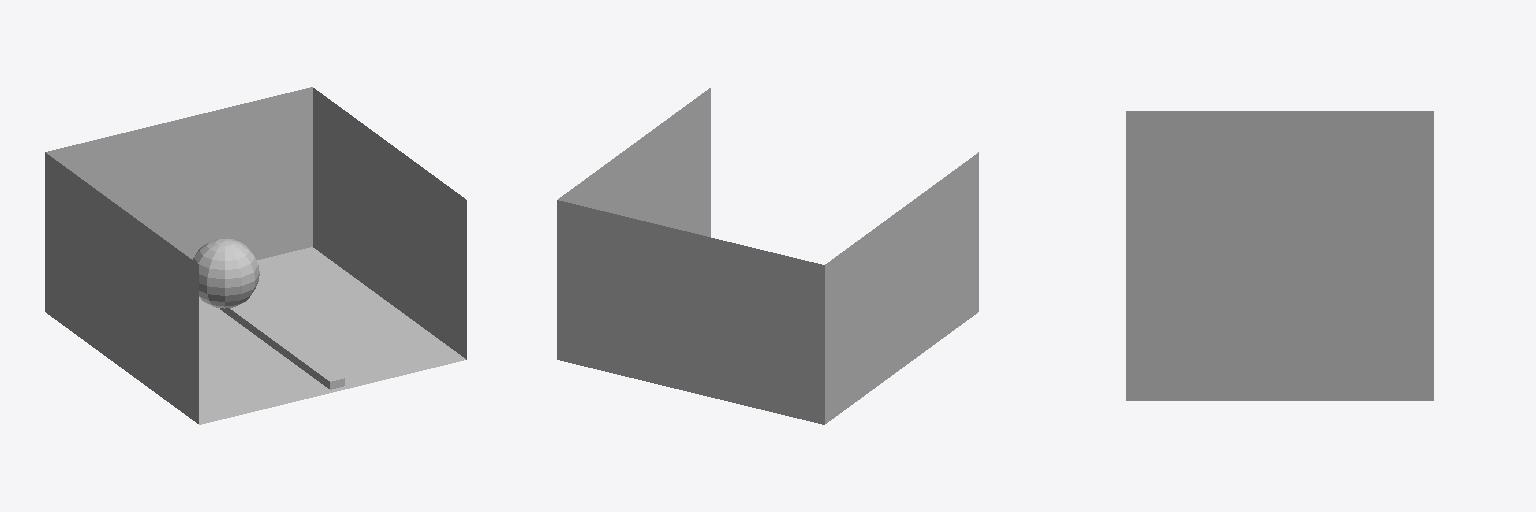
The model's file is eval-sphere.obj.
The picture shows the model from 3 angles: view 1: azimuth 30°, elevation 25°; view 2: azimuth 150°, elevation 25°; view 3: azimuth 270°, elevation 25°; orthographic projection.
Visible parts, largest first — view 1: Walls, Sphere, Cube; view 2: Walls; view 3: Walls.
Part boxes in pixels (x1,y1,x2,y2): Walls: (45,87,466,424); Sphere: (193,238,259,308); Cube: (220,303,344,389); Walls: (557,88,978,424); Walls: (1126,111,1433,400).
Bounding box in the file's own units: 3.5 × 2 × 3.5.